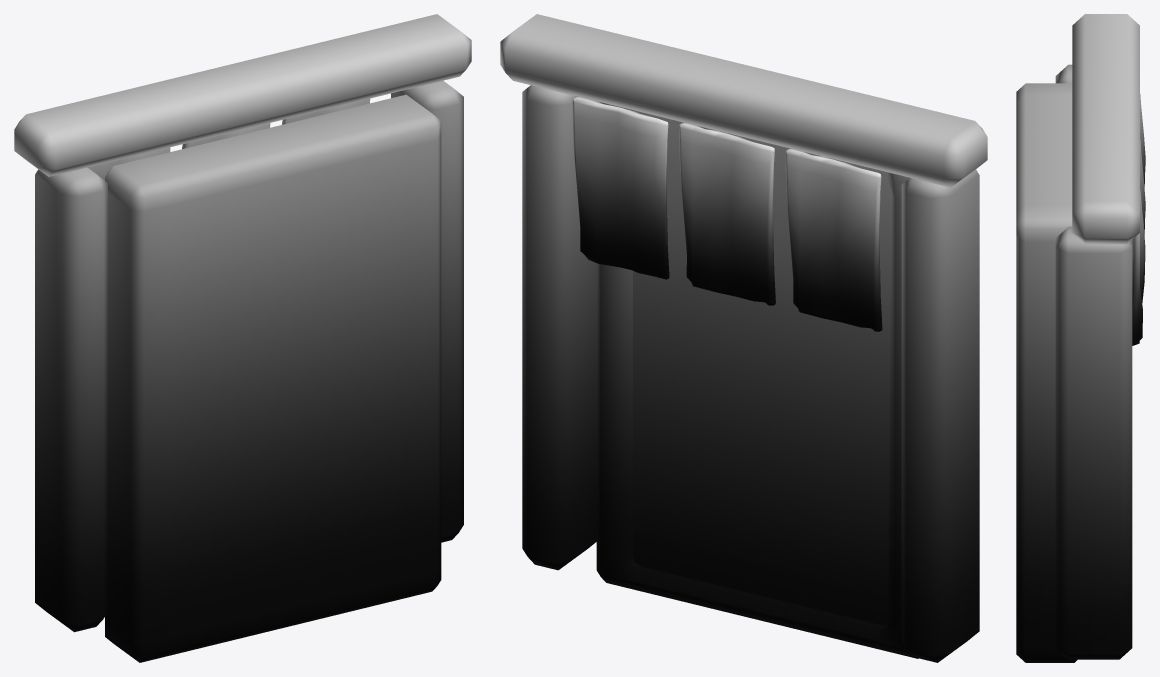
Rendered from SM_Wood_Door_06.fbx.
3 views of the same model, side by side, from view 1: azimuth 30°, elevation 25°; view 2: azimuth 150°, elevation 25°; view 3: azimuth 270°, elevation 25° (orthographic). The views are drawn at different scales.
Parts seen in each view (by area): view 1: SM_Wood_Door_06; view 2: SM_Wood_Door_06; view 3: SM_Wood_Door_06.
Part boxes in pixels (box(x1,y1,x2,y2)): SM_Wood_Door_06: box(14, 14, 471, 662); SM_Wood_Door_06: box(500, 14, 987, 662); SM_Wood_Door_06: box(1016, 14, 1145, 662).
Bounding box in the file's own units: 0.5486 × 0.6312 × 0.1517.
